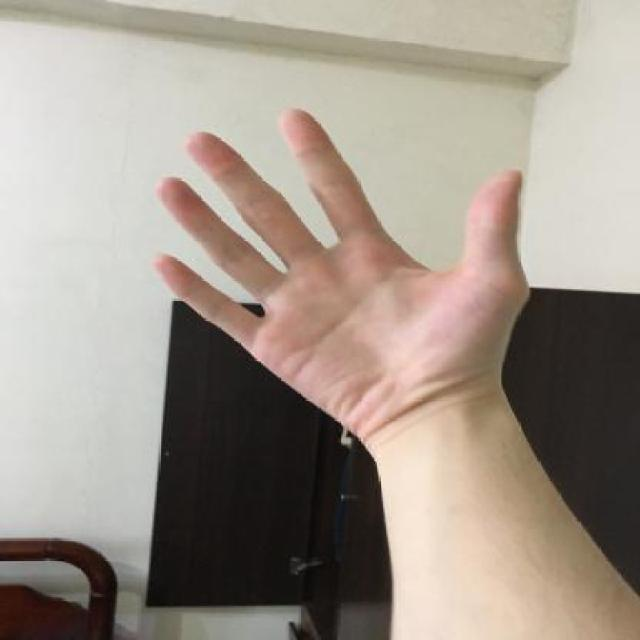bare_hand: (126, 90, 563, 453)
